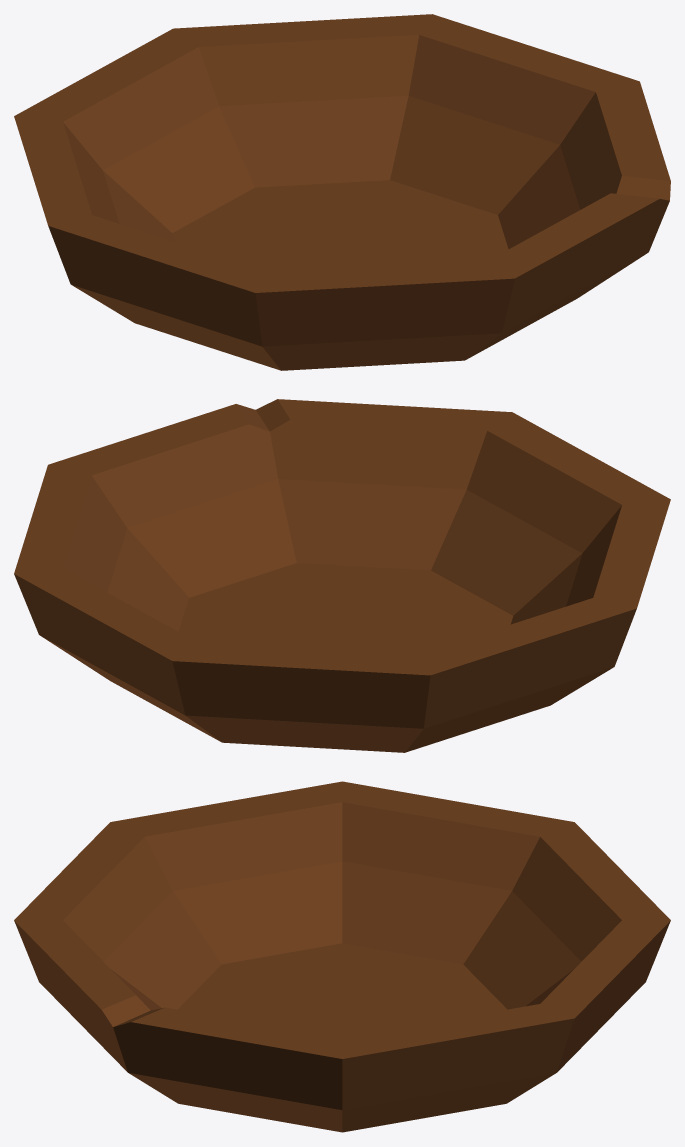
File: Bowl.fbx
The picture shows the model from 3 angles, top to bottom: view 1: azimuth 30°, elevation 25°; view 2: azimuth 150°, elevation 25°; view 3: azimuth 270°, elevation 25°; orthographic projection. The views are drawn at different scales.
Visible parts, largest first — view 1: Bowl.001; view 2: Bowl.001; view 3: Bowl.001.
Boxes of the visible parts, box(x1,y1,x2,y2) form: Bowl.001: box(14, 14, 670, 370); Bowl.001: box(14, 399, 670, 752); Bowl.001: box(14, 781, 670, 1132).
Size of the model in its own units: 40.28 by 9.7 by 40.28.
